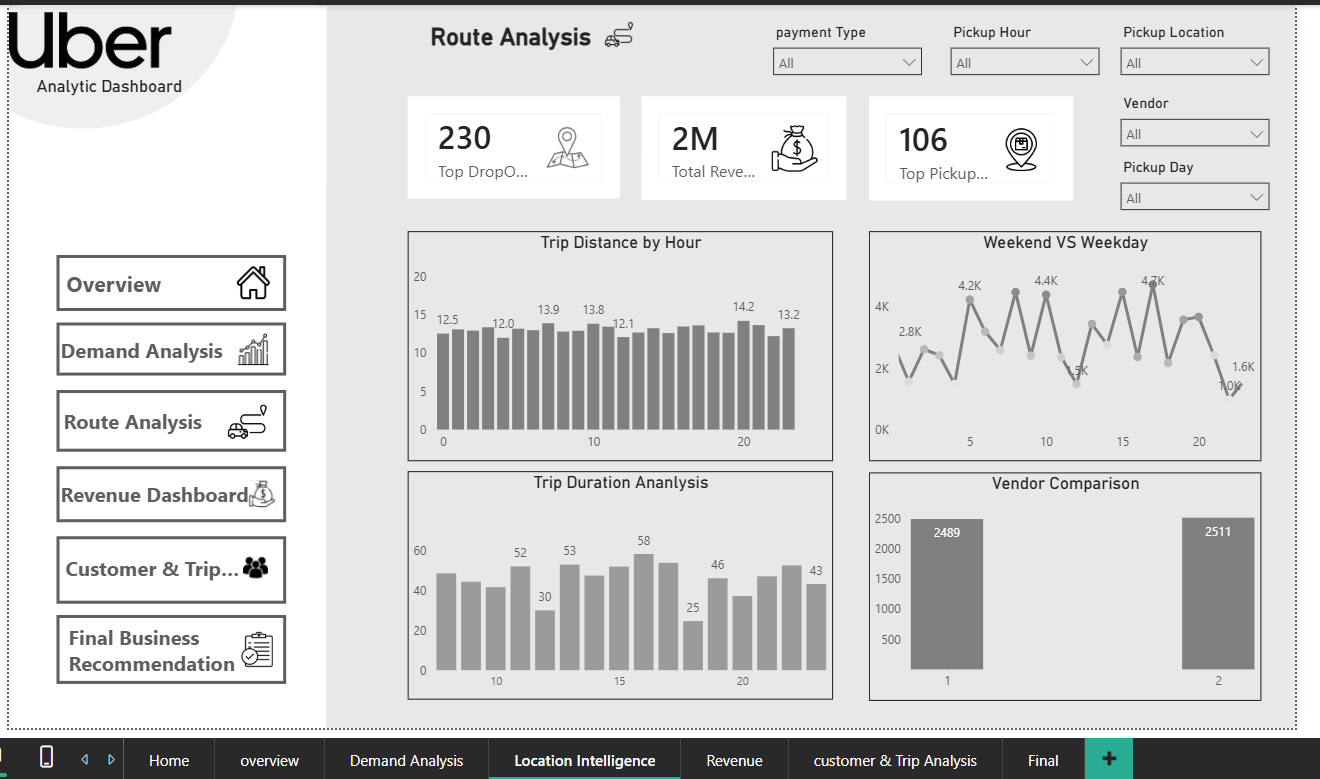

The dashboard page shown, as its layout file describes it:
{"tool":"powerbi","page":{"name":"Location Intelligence","canvas":[1280,720],"ordinal":3},"visuals":[{"type":"shape","box":[0,0,316,733.9],"z":2000},{"type":"image","box":[87.1,44.3,195.7,52.9],"z":3000},{"type":"cardVisual","fields":{"Data":["img.Top DropOff Location"]},"box":[397.1,91.4,211.4,101.4],"z":4000},{"type":"image","box":[0,0,316,189.1],"z":5000},{"type":"image","box":[0,0,161.4,70],"z":6000},{"type":"clusteredColumnChart","title":"Trip Distance by Hour","fields":{"Category":["uber_analysis uber_cleaned.pickup_hour"],"Y":["img.Avg Distance"]},"box":[397.1,225.7,422.9,228.6],"z":7000},{"type":"columnChart","title":"Trip Duration Ananlysis","fields":{"Category":["uber_analysis uber_cleaned.pickup_hour"],"Y":["img.Avg Trip Duration"]},"box":[397.1,464.3,422.9,227.1],"z":8000},{"type":"lineChart","title":"Weekend VS Weekday","fields":{"Category":["uber_analysis uber_cleaned.pickup_hour"],"Y":["img.Total Revenue"]},"box":[855.7,225.7,390,228.6],"z":9000},{"type":"textbox","title":"Location Intelligence","box":[380,17.1,260,52.9],"z":10000},{"type":"slicer","fields":{"Values":["uber_analysis uber_cleaned.payment_type"]},"box":[750,14.3,168.6,61.4],"z":11000},{"type":"slicer","fields":{"Values":["uber_analysis uber_cleaned.vendor_id"]},"box":[1095.7,84.3,168.6,62.9],"z":12000},{"type":"slicer","fields":{"Values":["uber_analysis uber_cleaned.pickup_hour"]},"box":[927.1,14.3,168.6,61.4],"z":13000},{"type":"textbox","title":"Analytic Dashboard","box":[22.9,71.4,195.7,38.6],"z":14000},{"type":"actionButton","box":[32.3,235.1,250,58.5],"z":15000},{"type":"actionButton","box":[32.3,316,250,51],"z":16000},{"type":"actionButton","box":[32.3,385.6,250,51],"z":17000},{"type":"actionButton","box":[32.3,454,250,58.5],"z":18000},{"type":"actionButton","box":[32.3,529.9,250,59.7],"z":19000},{"type":"actionButton","box":[32.3,605.8,250,68.4],"z":20000},{"type":"cardVisual","fields":{"Data":["img.Total Revenue"]},"box":[624.3,91.4,211.4,104.3],"z":21000},{"type":"cardVisual","fields":{"Data":["img.Top Pickup Location"]},"box":[855.7,91.4,202.9,104.3],"z":22000},{"type":"clusteredColumnChart","title":"Vendor Comparison","fields":{"Category":["uber_analysis uber_cleaned.vendor_id"],"Y":["img.Total Trips"]},"box":[855.7,465.7,390,227.1],"z":23000},{"type":"slicer","fields":{"Values":["uber_analysis uber_cleaned.passenger_count"]},"box":[1095.7,14.3,168.6,61.4],"z":24000},{"type":"slicer","fields":{"Values":["uber_analysis uber_cleaned.pickup_day"]},"box":[1095.7,148.6,168.6,62.9],"z":25000}]}

Visuals, with their boxes on the page's 1280x720 design canvas (x1, y1, x2, y2). These are canvas units, not pixel positions in the 1320x779 screenshot, which may show the page scaled, cropped or inside an application window:
shape: (x1=0, y1=0, x2=316, y2=734)
image: (x1=87, y1=44, x2=283, y2=97)
cardVisual - img.Top DropOff Location: (x1=397, y1=91, x2=608, y2=193)
image: (x1=0, y1=0, x2=316, y2=189)
image: (x1=0, y1=0, x2=161, y2=70)
"Trip Distance by Hour" clusteredColumnChart: (x1=397, y1=226, x2=820, y2=454)
"Trip Duration Ananlysis" columnChart: (x1=397, y1=464, x2=820, y2=691)
"Weekend VS Weekday" lineChart: (x1=856, y1=226, x2=1246, y2=454)
"Location Intelligence" textbox: (x1=380, y1=17, x2=640, y2=70)
slicer - uber_analysis uber_cleaned.payment_type: (x1=750, y1=14, x2=919, y2=76)
slicer - uber_analysis uber_cleaned.vendor_id: (x1=1096, y1=84, x2=1264, y2=147)
slicer - uber_analysis uber_cleaned.pickup_hour: (x1=927, y1=14, x2=1096, y2=76)
"Analytic Dashboard" textbox: (x1=23, y1=71, x2=219, y2=110)
actionButton: (x1=32, y1=235, x2=282, y2=294)
actionButton: (x1=32, y1=316, x2=282, y2=367)
actionButton: (x1=32, y1=386, x2=282, y2=437)
actionButton: (x1=32, y1=454, x2=282, y2=512)
actionButton: (x1=32, y1=530, x2=282, y2=590)
actionButton: (x1=32, y1=606, x2=282, y2=674)
cardVisual - img.Total Revenue: (x1=624, y1=91, x2=836, y2=196)
cardVisual - img.Top Pickup Location: (x1=856, y1=91, x2=1059, y2=196)
"Vendor Comparison" clusteredColumnChart: (x1=856, y1=466, x2=1246, y2=693)
slicer - uber_analysis uber_cleaned.passenger_count: (x1=1096, y1=14, x2=1264, y2=76)
slicer - uber_analysis uber_cleaned.pickup_day: (x1=1096, y1=149, x2=1264, y2=212)
